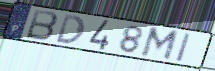4: (88, 19, 111, 52)
8: (118, 25, 146, 54)
B: (24, 8, 60, 42)
D: (55, 13, 87, 45)
I: (175, 32, 193, 64)
M: (138, 26, 181, 63)
